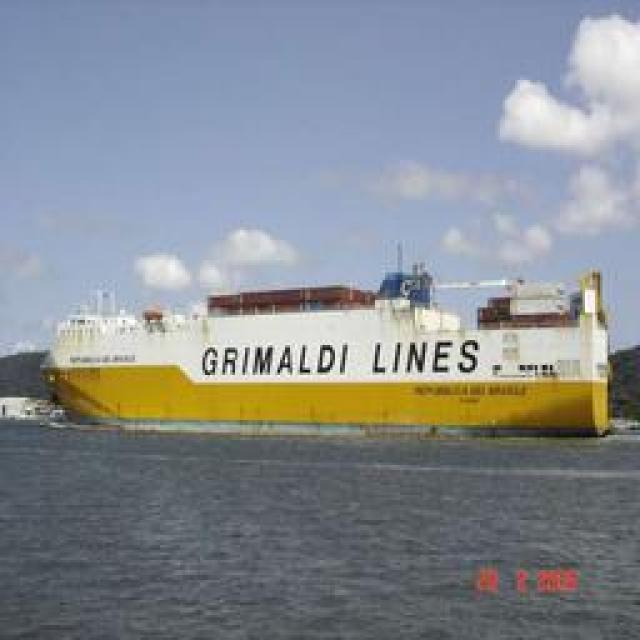CIV_Ship: (49, 255, 609, 438)
